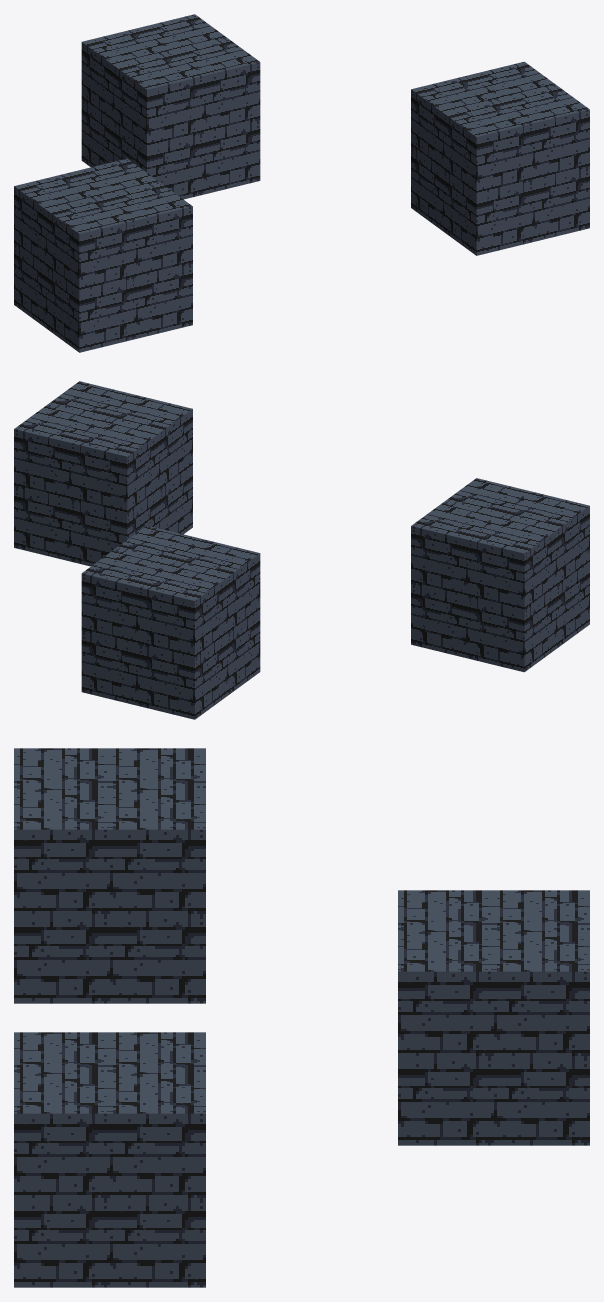
Rendered from lighting.gltf.
The picture shows the model from 3 angles, top to bottom: view 1: azimuth 30°, elevation 25°; view 2: azimuth 150°, elevation 25°; view 3: azimuth 270°, elevation 25°; orthographic projection. The views are drawn at different scales.
Visible parts, largest first — view 1: OnlyGreen, OnlyRed, Both; view 2: Both, OnlyGreen, OnlyRed; view 3: OnlyGreen, OnlyRed, Both.
Boxes of the visible parts, x1,y1,x2,y2 form: OnlyGreen: [14, 158, 192, 352]; OnlyRed: [411, 61, 589, 255]; Both: [81, 14, 260, 199]; Both: [81, 525, 260, 719]; OnlyGreen: [411, 478, 589, 672]; OnlyRed: [14, 381, 192, 566]; OnlyGreen: [14, 748, 205, 1003]; OnlyRed: [14, 1032, 205, 1287]; Both: [398, 890, 589, 1145].
Size of what is drawn, in the model's own units: 18 by 4 by 12.
1 material, 1 textured.
